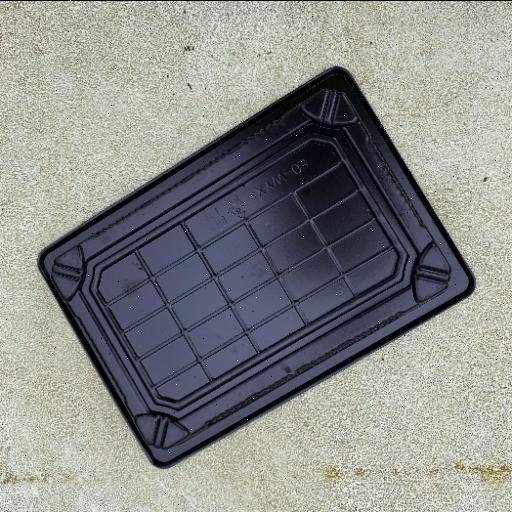Plastic: (36, 64, 474, 470)
